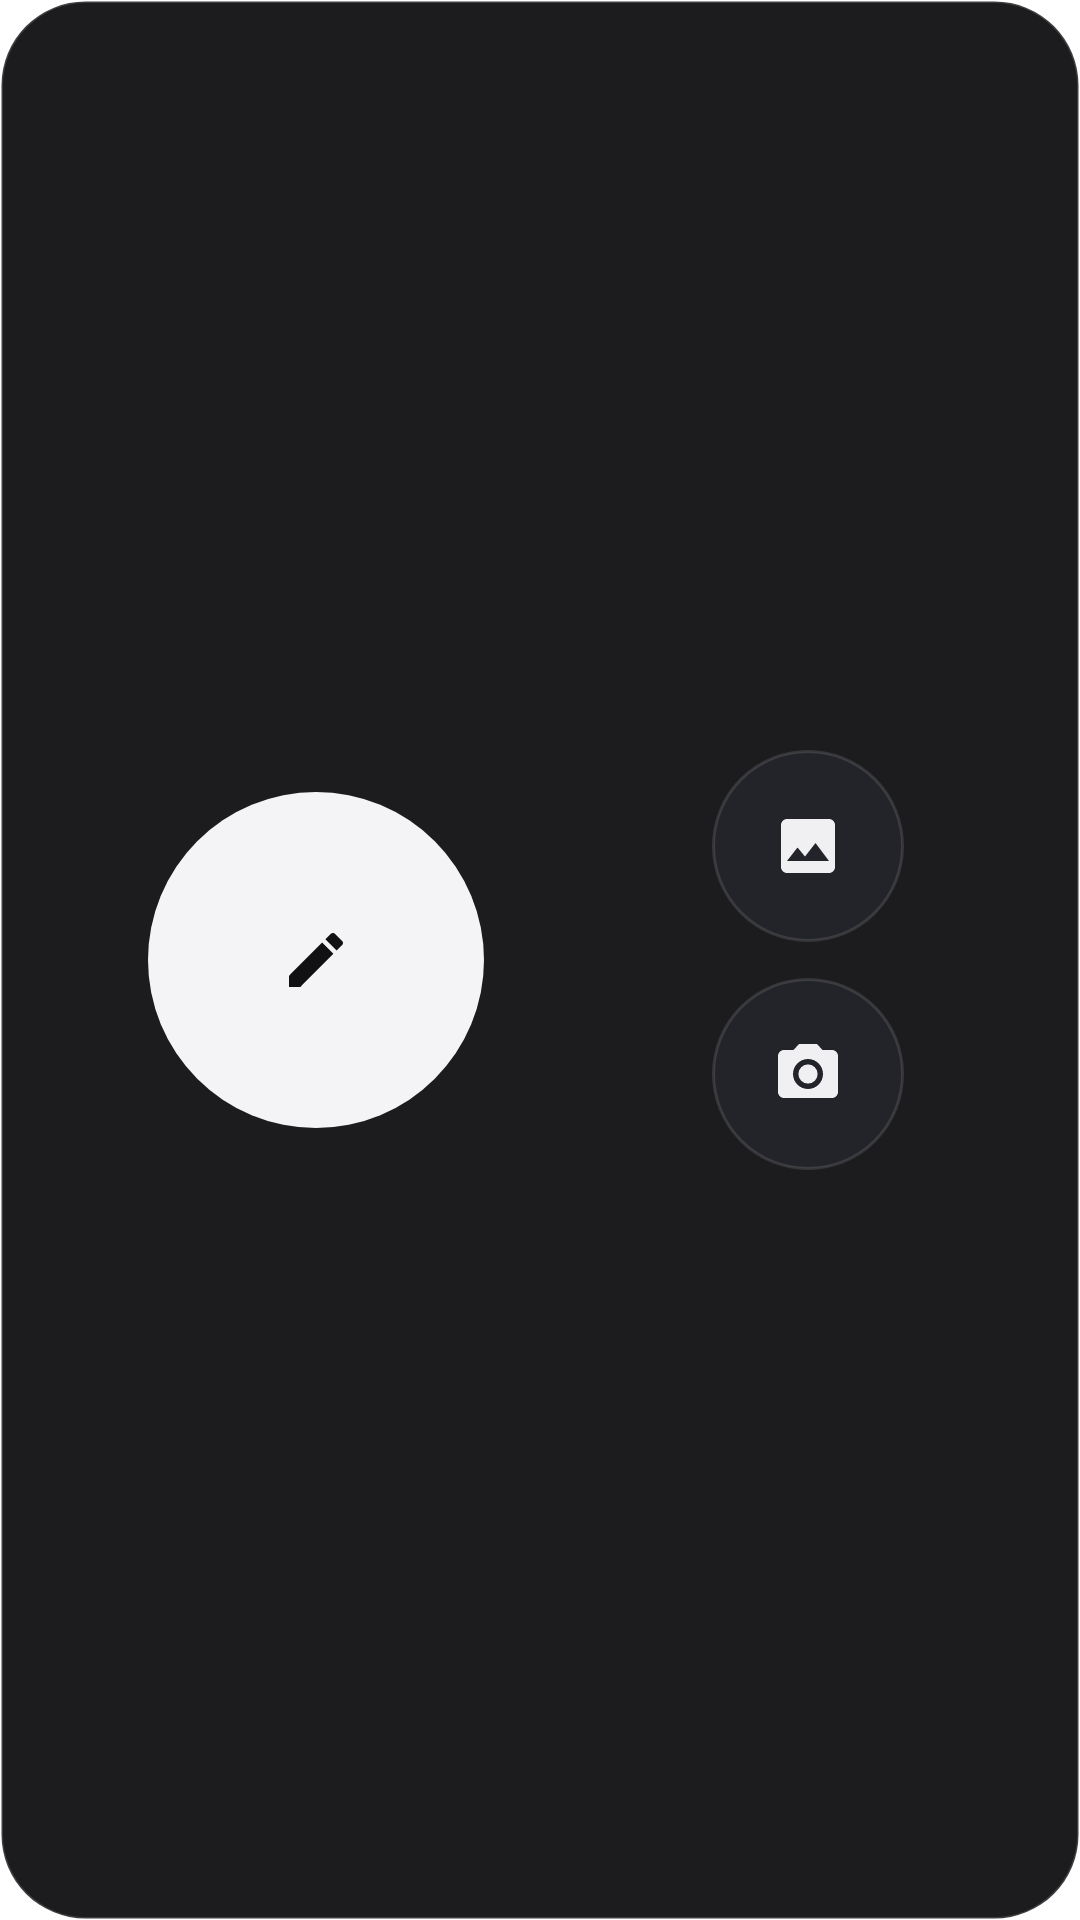

Where icons sit on this 1080x1920 app screen, as bbox(x1, y1, x2, y2):
widget camera: bbox(778, 1044, 838, 1098)
widget gallery: bbox(781, 819, 835, 873)
widget pen: bbox(289, 933, 343, 987)
